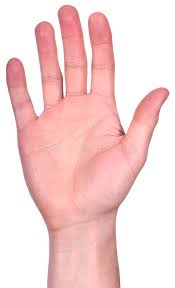palm: (26, 97, 125, 208)
